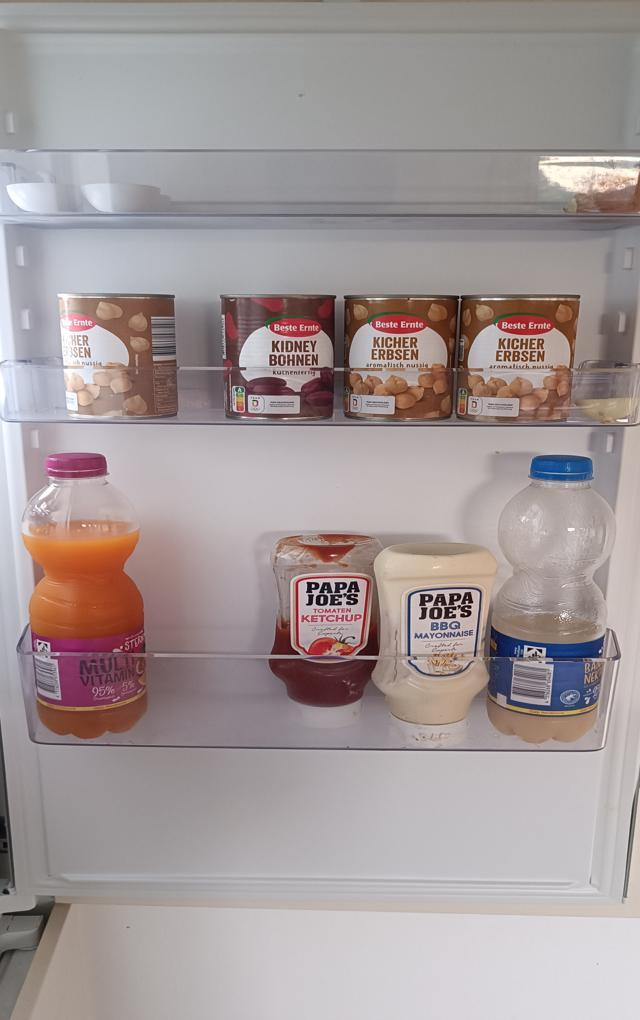bananajuice: (491, 454, 614, 747)
chickpeas: (57, 292, 180, 418), (462, 290, 574, 421), (348, 291, 454, 422)
kidneybeans: (221, 294, 337, 422)
mayoniasie: (372, 538, 493, 748)
orangejuice: (19, 453, 150, 740)
tomatoketchup: (269, 530, 384, 729)
